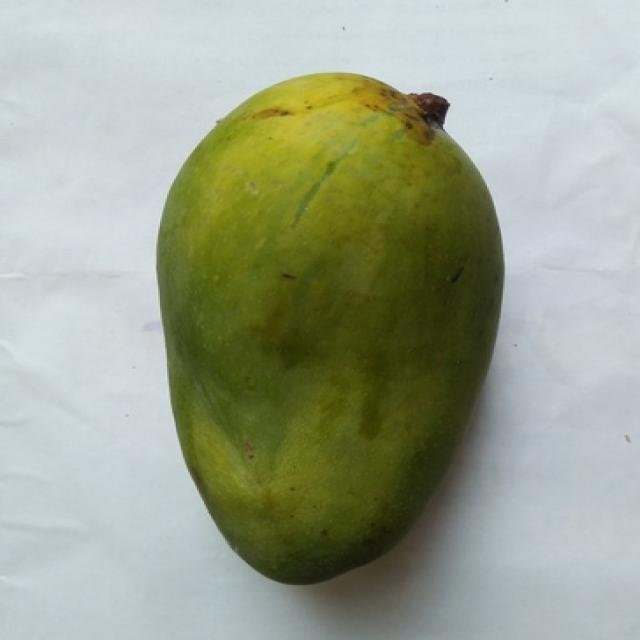Mango: (156, 73, 503, 581)
